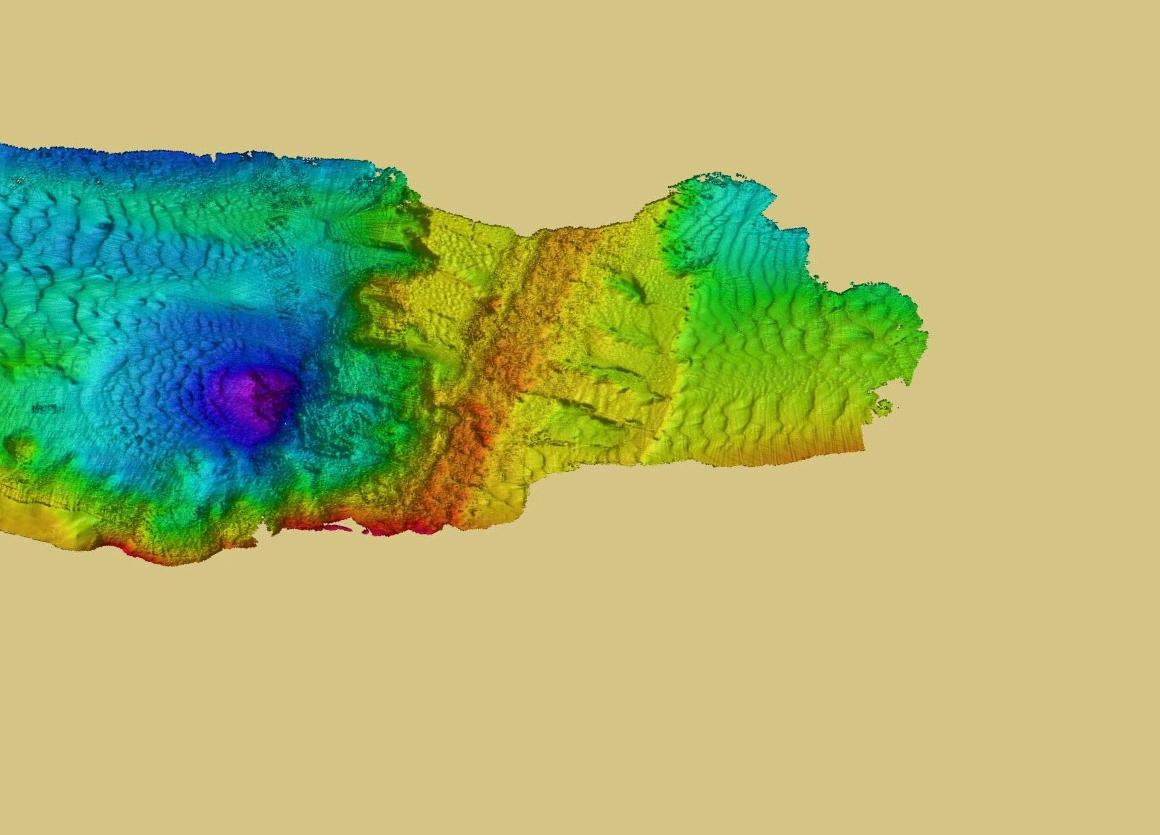Dune: (687, 158, 977, 577), (1, 205, 300, 315), (70, 321, 205, 458)
Scarp: (1, 484, 629, 696)
Scour pit: (189, 329, 357, 482)
Submerged dike: (439, 218, 591, 595)
